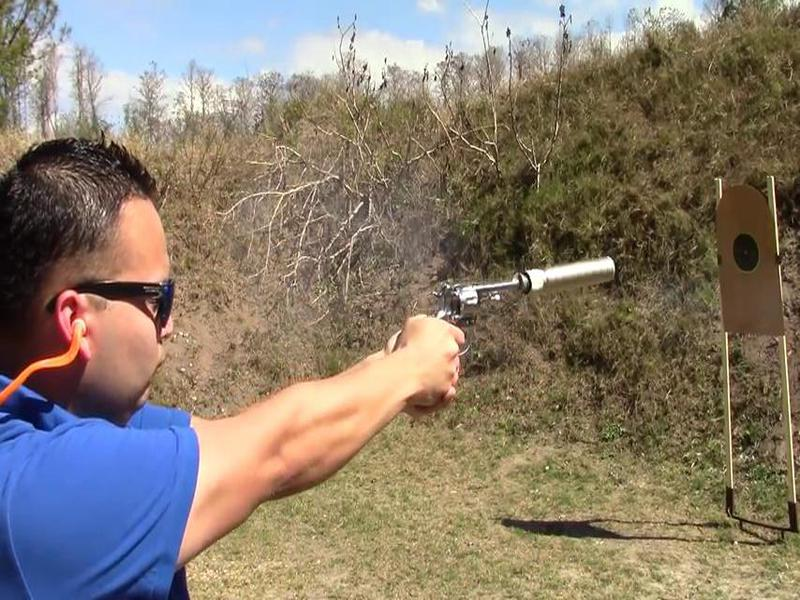Revolver: (417, 252, 537, 368)
